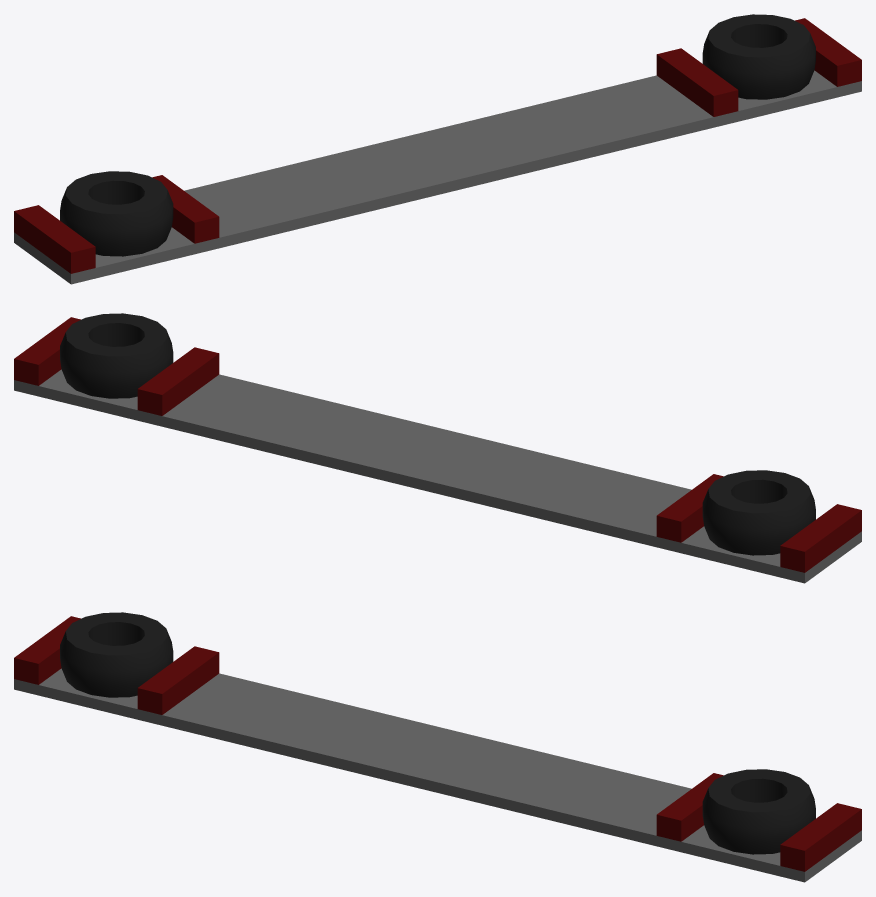
File: gokart.obj
3 renders of one model, top to bottom at view 1: azimuth 30°, elevation 25°; view 2: azimuth 150°, elevation 25°; view 3: azimuth 330°, elevation 25°, orthographic.
Size of the model in its own units: 3.3 by 0.2105 by 0.4125.
